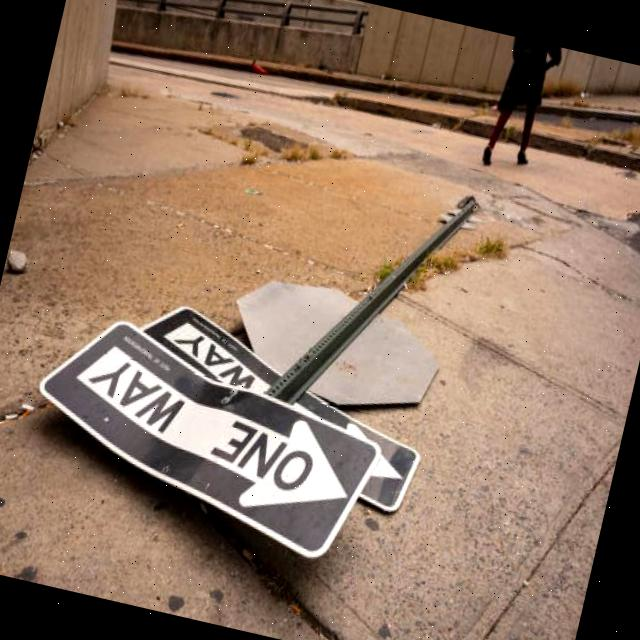Broken Pole: (32, 186, 482, 567)
